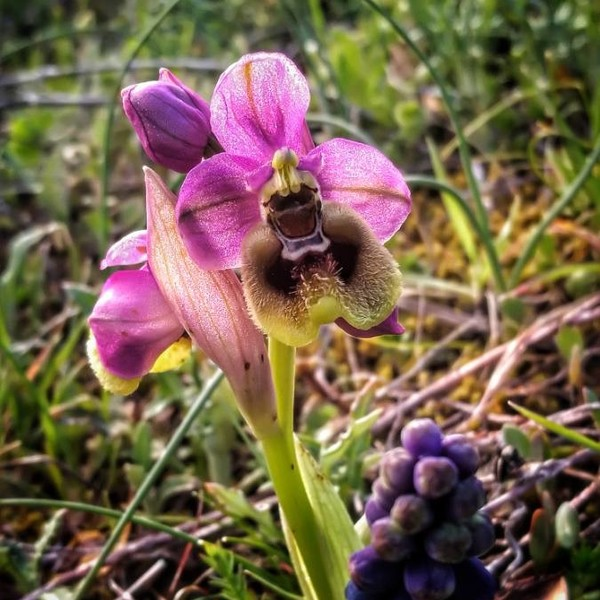obstacle: (88, 56, 432, 561)
